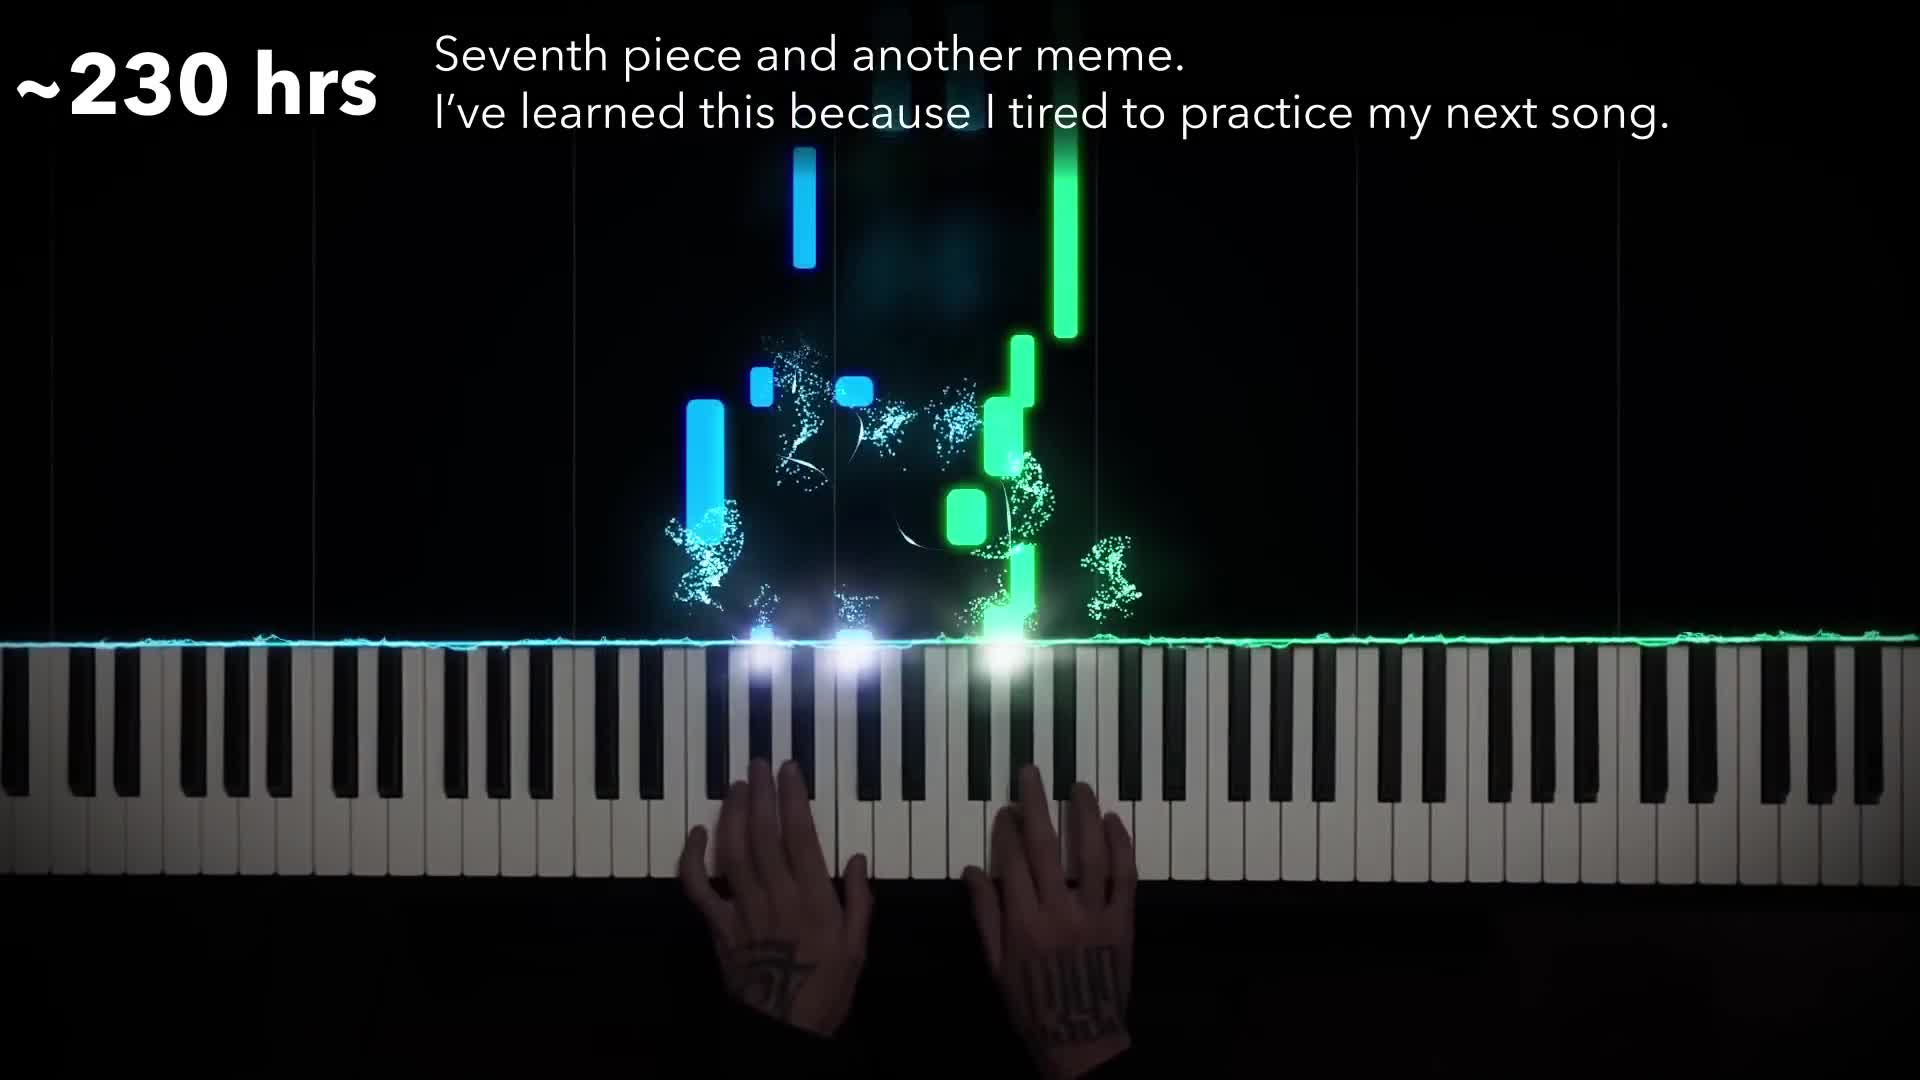left: (678, 756, 869, 1018)
right: (965, 764, 1143, 1031)
